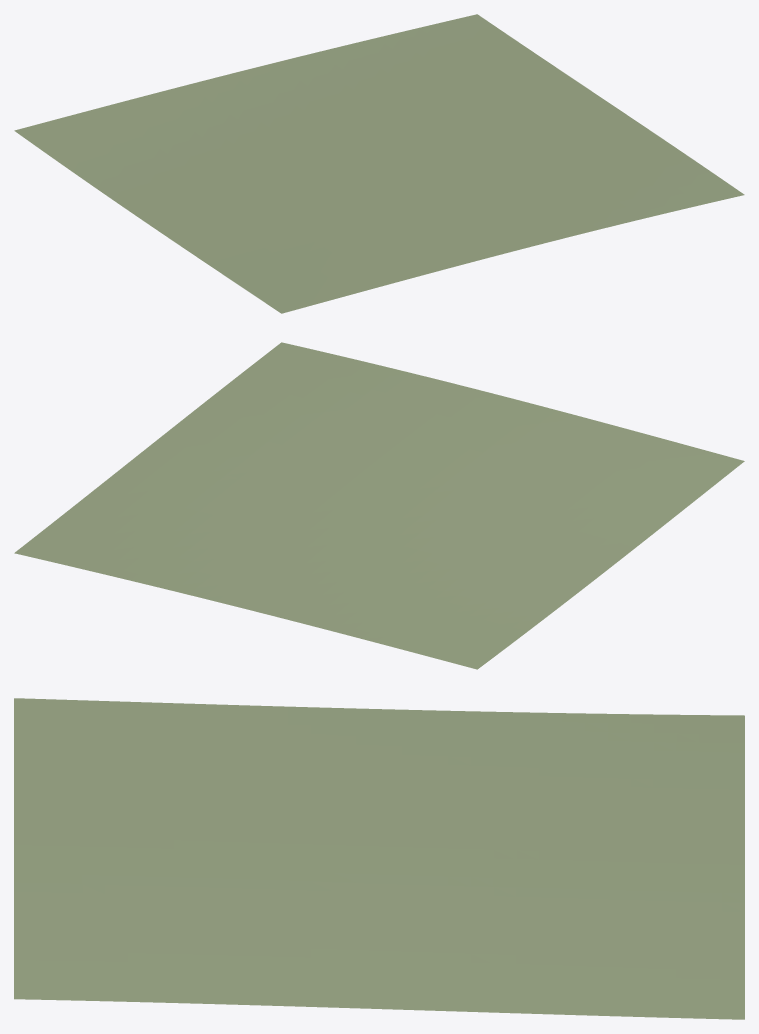
Rendered from expanse-1-20.glb.
The picture shows the model from 3 angles, top to bottom: view 1: azimuth 30°, elevation 25°; view 2: azimuth 150°, elevation 25°; view 3: azimuth 270°, elevation 25°; orthographic projection. The views are drawn at different scales.
Parts seen in each view (by area): view 1: expanse-1-20; view 2: expanse-1-20; view 3: expanse-1-20.
Boxes of the visible parts, left/top/right/bottom form: expanse-1-20: left=14, top=14, right=744, bottom=313; expanse-1-20: left=14, top=342, right=744, bottom=669; expanse-1-20: left=14, top=698, right=744, bottom=1019.
Bounding box in the file's own units: 256 × 10.25 × 256.
